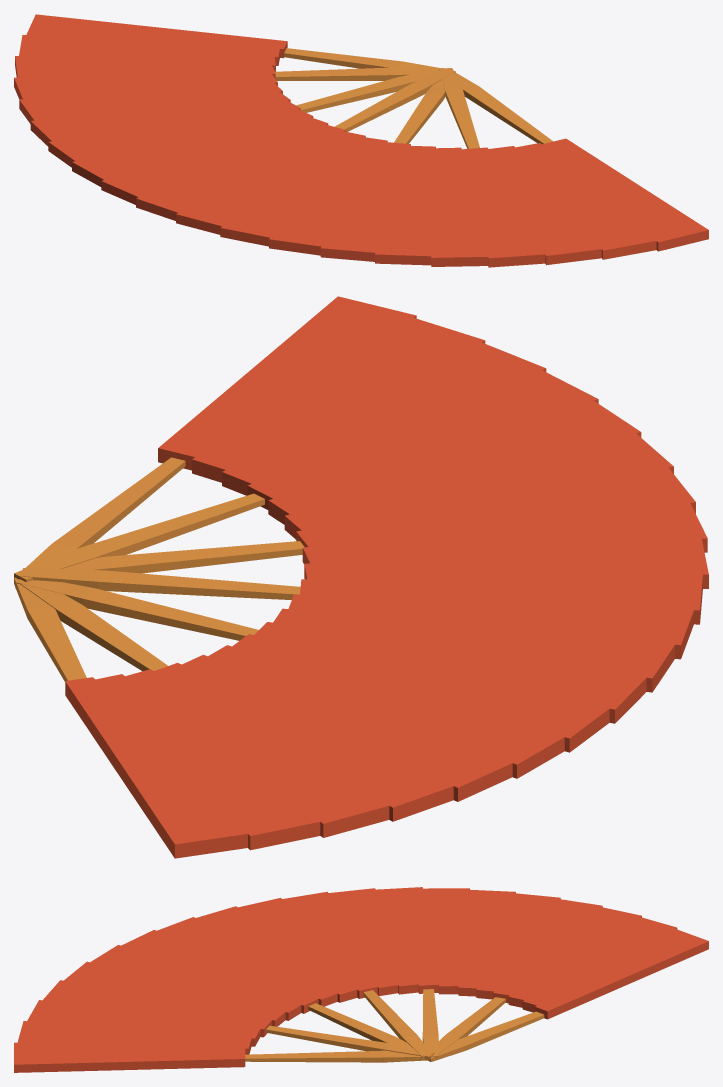
File: sensu.fbx
3 renders of one model, top to bottom at view 1: azimuth 30°, elevation 25°; view 2: azimuth 150°, elevation 25°; view 3: azimuth 270°, elevation 25°, orthographic. The views are drawn at different scales.
Visible parts, largest first — view 1: 立方体.005; view 2: 立方体.005; view 3: 立方体.005.
Boxes of the visible parts, x1,y1,x2,y2 form: 立方体.005: [14, 14, 708, 267]; 立方体.005: [14, 296, 708, 858]; 立方体.005: [14, 887, 708, 1072].
Bounding box in the file's own units: 653 × 15.05 × 1080.
